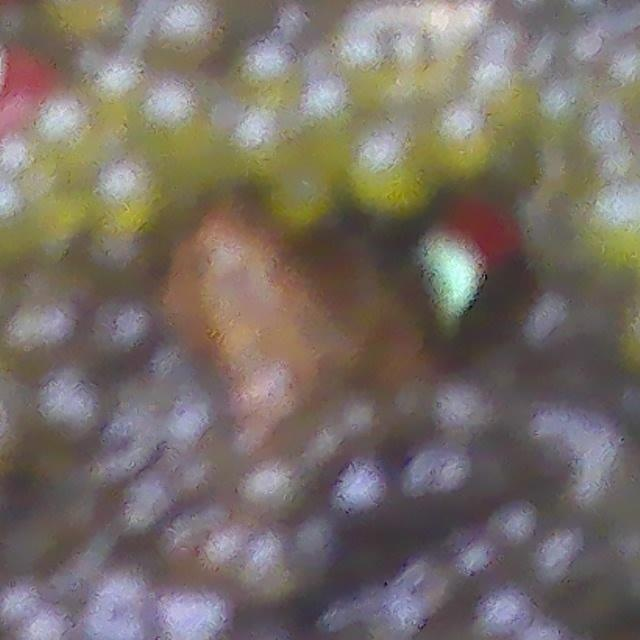SeaGrape: (346, 126, 434, 220), (424, 104, 493, 178), (330, 460, 381, 530), (433, 447, 477, 500)
